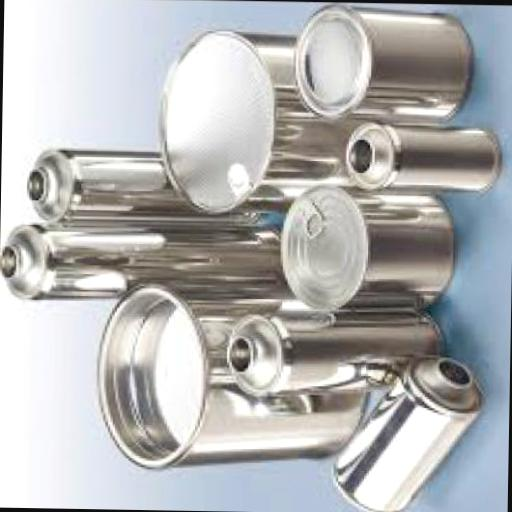metal: (93, 280, 372, 476), (152, 32, 380, 218), (327, 354, 484, 512), (0, 223, 283, 305), (275, 188, 454, 317), (290, 7, 470, 123), (222, 308, 447, 398), (22, 150, 262, 230), (342, 120, 498, 192)
